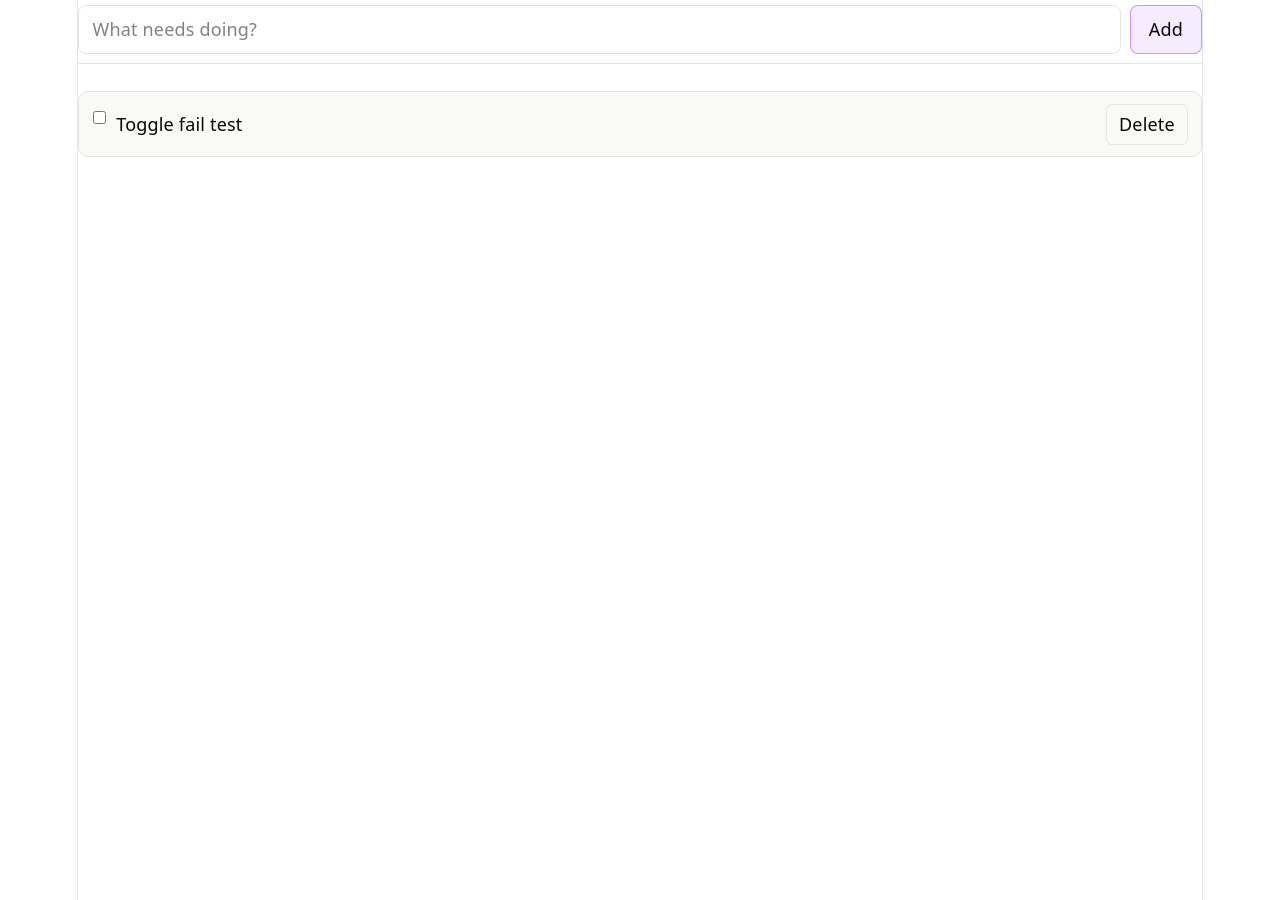
Test: TodoApp › MSW › IS-3.2.a: PATCH failure — prior done state shown + patchDelBanner error visible
Click the checkbox at (99, 118), box [92,111,106,124]
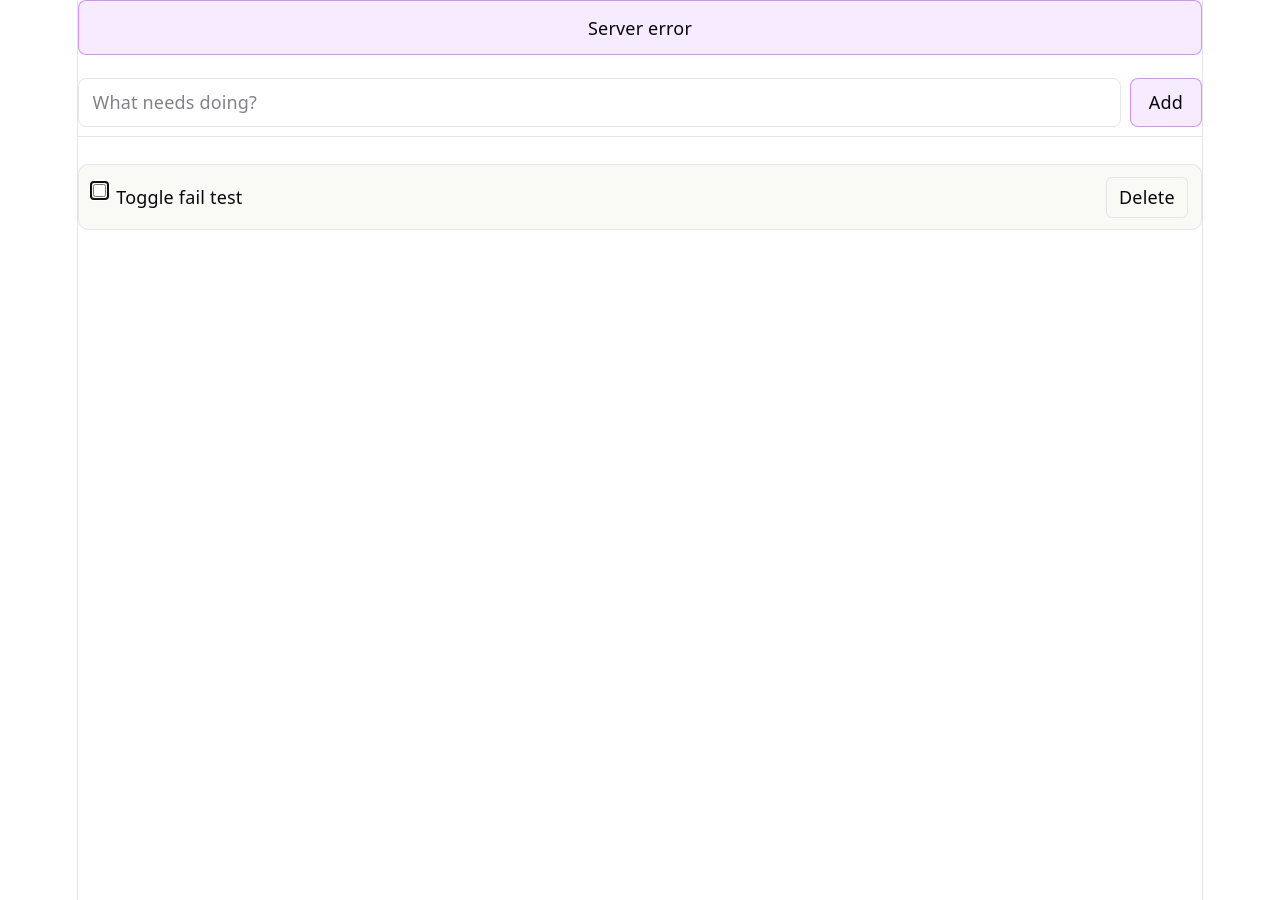
Expected: the checkbox is not checked, [92,184,106,197]
Now the message reads "Server error", box [588,16,692,40]
